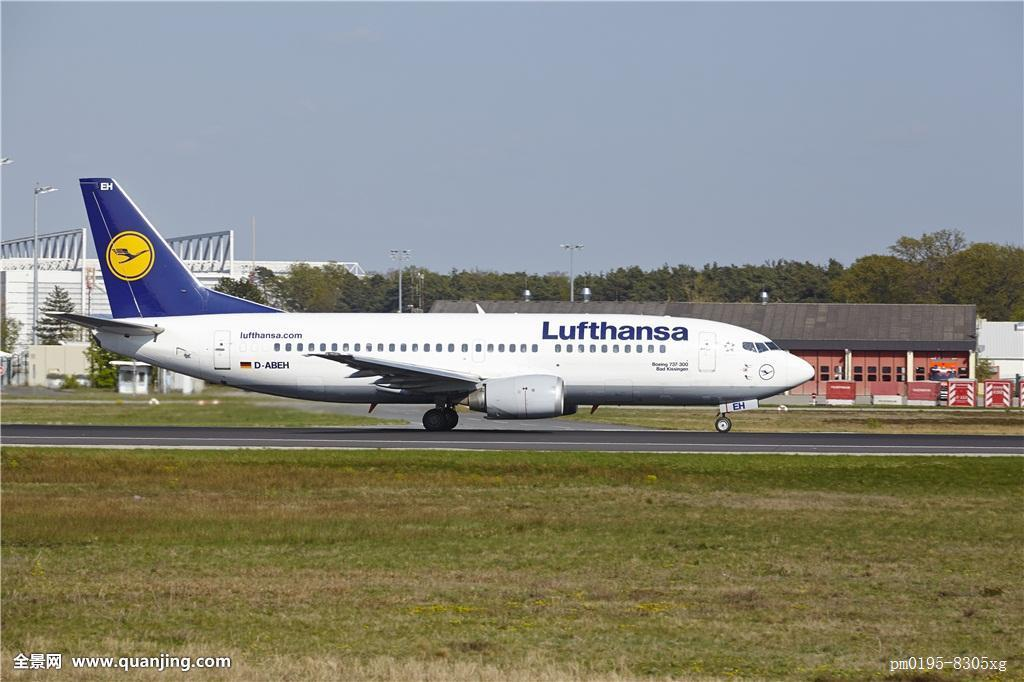airplane: (43, 176, 817, 447)
